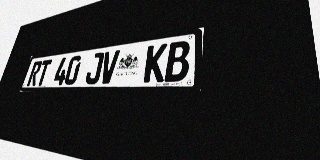0: (63, 55, 82, 85)
4: (52, 57, 71, 85)
B: (164, 40, 191, 82)
J: (84, 52, 105, 84)
K: (143, 43, 168, 82)
R: (26, 61, 43, 86)
T: (35, 59, 52, 86)
V: (98, 50, 120, 84)
